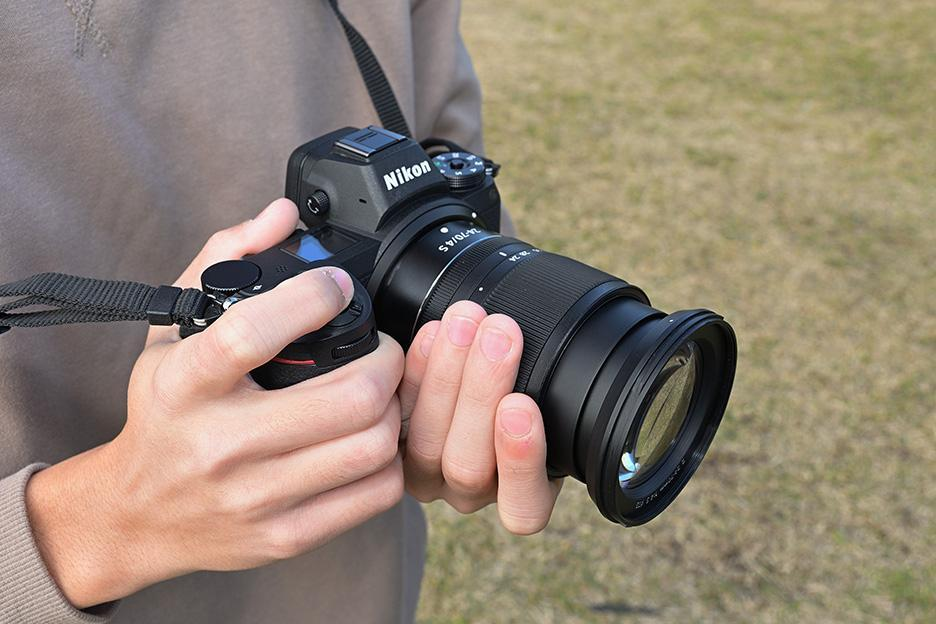degital-camera: (170, 109, 746, 547)
